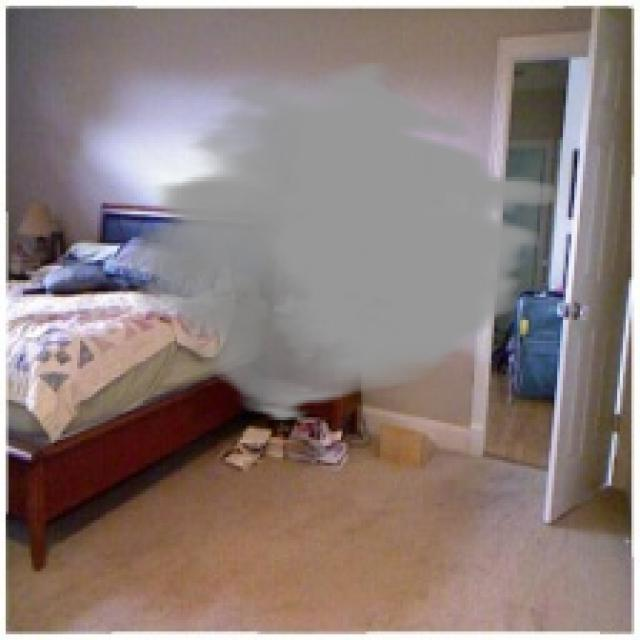smoke: (132, 60, 554, 423)
